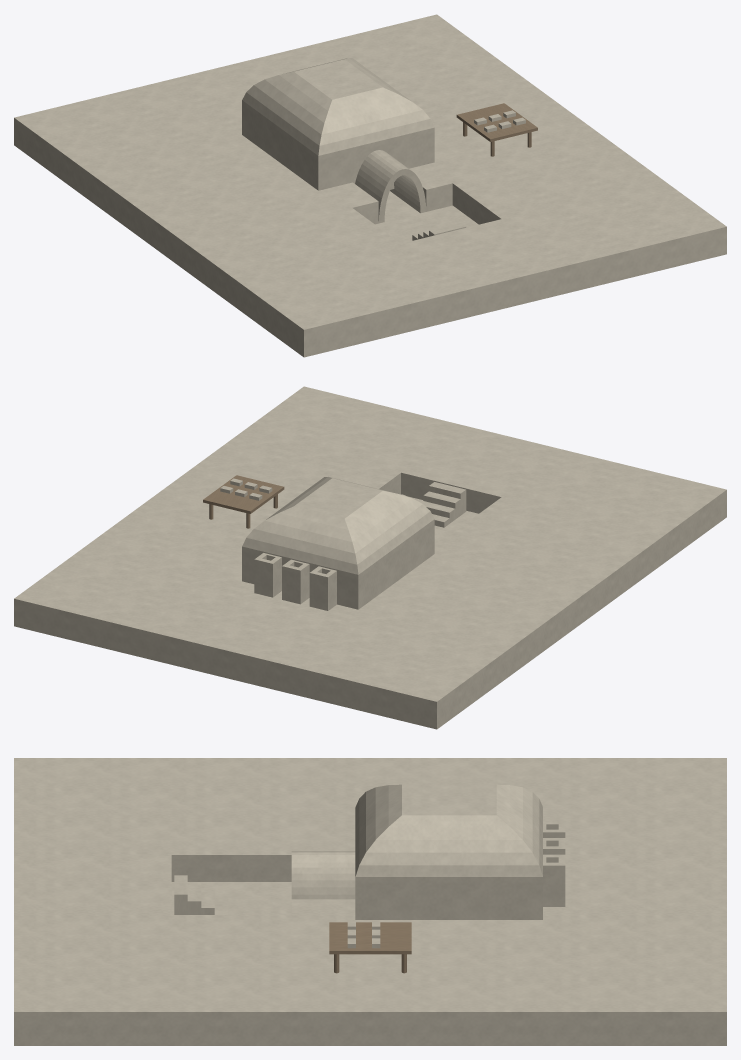
The model's file is kiln-A.glb.
3 views of the same model, one above another, from view 1: azimuth 30°, elevation 25°; view 2: azimuth 150°, elevation 25°; view 3: azimuth 270°, elevation 25° (orthographic). The views are drawn at different scales.
Parts seen in each view (by area): view 1: A_presentation_ground, A_detachable_roof_C, A_chamber_walls, A_fire_hood, A_operation_pit_floor, A_blank_drying_board_C, A_fire_floor; view 2: A_presentation_ground, A_detachable_roof_C, A_chamber_walls, A_blank_drying_board_C, A_short_flue.001, A_short_flue.002, A_short_flue; view 3: A_presentation_ground, A_detachable_roof_C, A_chamber_walls, A_fire_hood, A_operation_pit_floor, A_blank_drying_board_C, A_short_flue.002, A_pit_access_step, A_pit_access_step.001.
Boxes of the visible parts, bbox=[...] form: A_presentation_ground: bbox=[14, 14, 726, 357]; A_detachable_roof_C: bbox=[242, 58, 434, 155]; A_chamber_walls: bbox=[242, 100, 434, 190]; A_fire_hood: bbox=[355, 150, 426, 223]; A_operation_pit_floor: bbox=[375, 205, 478, 243]; A_blank_drying_board_C: bbox=[456, 103, 537, 141]; A_fire_floor: bbox=[384, 191, 419, 221]; A_presentation_ground: bbox=[14, 386, 726, 729]; A_detachable_roof_C: bbox=[242, 477, 434, 574]; A_chamber_walls: bbox=[242, 519, 434, 609]; A_blank_drying_board_C: bbox=[203, 475, 284, 513]; A_short_flue.001: bbox=[282, 559, 309, 604]; A_short_flue.002: bbox=[254, 553, 281, 597]; A_short_flue: bbox=[309, 566, 336, 610]; A_presentation_ground: bbox=[14, 758, 726, 1045]; A_detachable_roof_C: bbox=[355, 784, 542, 876]; A_chamber_walls: bbox=[355, 877, 542, 919]; A_fire_hood: bbox=[291, 851, 355, 899]; A_operation_pit_floor: bbox=[171, 882, 291, 914]; A_blank_drying_board_C: bbox=[329, 922, 411, 954]; A_short_flue.002: bbox=[543, 854, 565, 906]; A_pit_access_step: bbox=[174, 875, 187, 914]; A_pit_access_step.001: bbox=[187, 882, 201, 914].
Bounding box in the file's own units: 16 × 3.54 × 19.
Materials: 3 (3 with a texture image).
